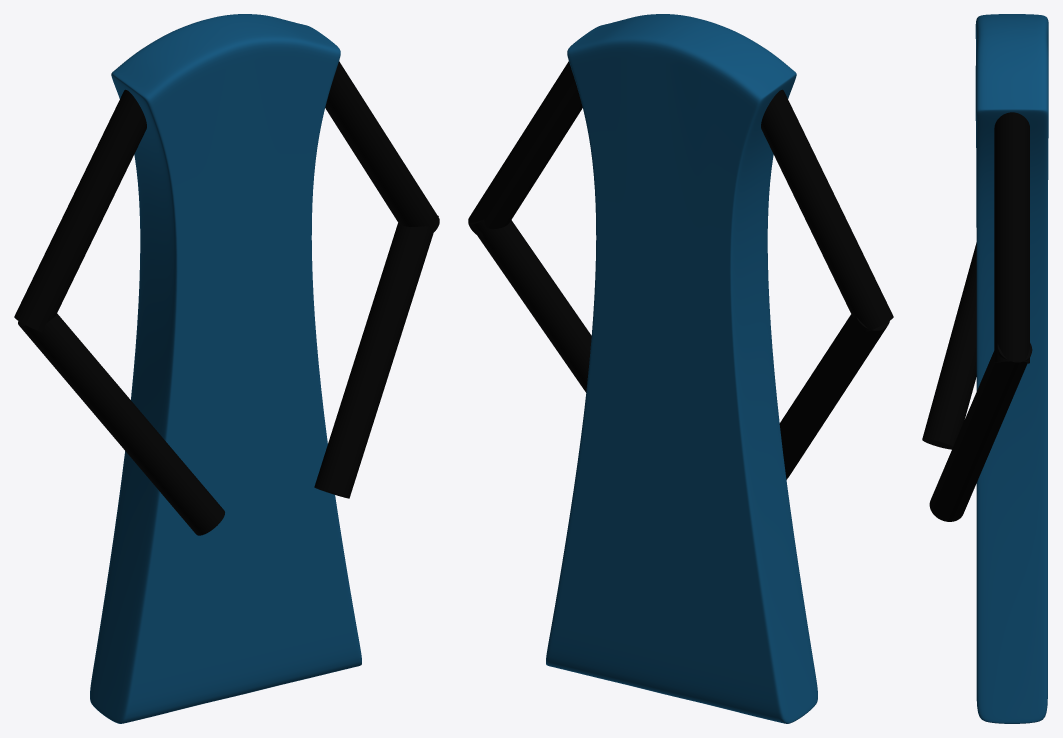
The model's file is maleBody1.dae.
3 views of the same model, side by side, from view 1: azimuth 30°, elevation 25°; view 2: azimuth 150°, elevation 25°; view 3: azimuth 270°, elevation 25° (orthographic). The views are drawn at different scales.
Parts seen in each view (by area): view 1: MaleBody, LeftForeArm, RightForeArm, RightUpperArm, LeftUpperArm; view 2: MaleBody, RightUpperArm, LeftUpperArm, LeftForeArm, RightForeArm; view 3: MaleBody, LeftUpperArm, LeftForeArm, RightForeArm.
Boxes of the visible parts, x1,y1,x2,y2 form: MaleBody: (90, 14, 361, 723); LeftForeArm: (314, 213, 438, 498); RightForeArm: (18, 313, 224, 535); RightUpperArm: (14, 89, 146, 332); LeftUpperArm: (325, 61, 439, 234); MaleBody: (546, 14, 817, 723); RightUpperArm: (761, 89, 893, 332); LeftUpperArm: (468, 61, 582, 238); LeftForeArm: (468, 220, 591, 392); RightForeArm: (779, 314, 889, 479); MaleBody: (975, 14, 1048, 723); LeftUpperArm: (994, 112, 1029, 363); LeftForeArm: (929, 343, 1032, 521); RightForeArm: (922, 242, 976, 449).
Size of the model in its own units: 131 by 196 by 35.4.
